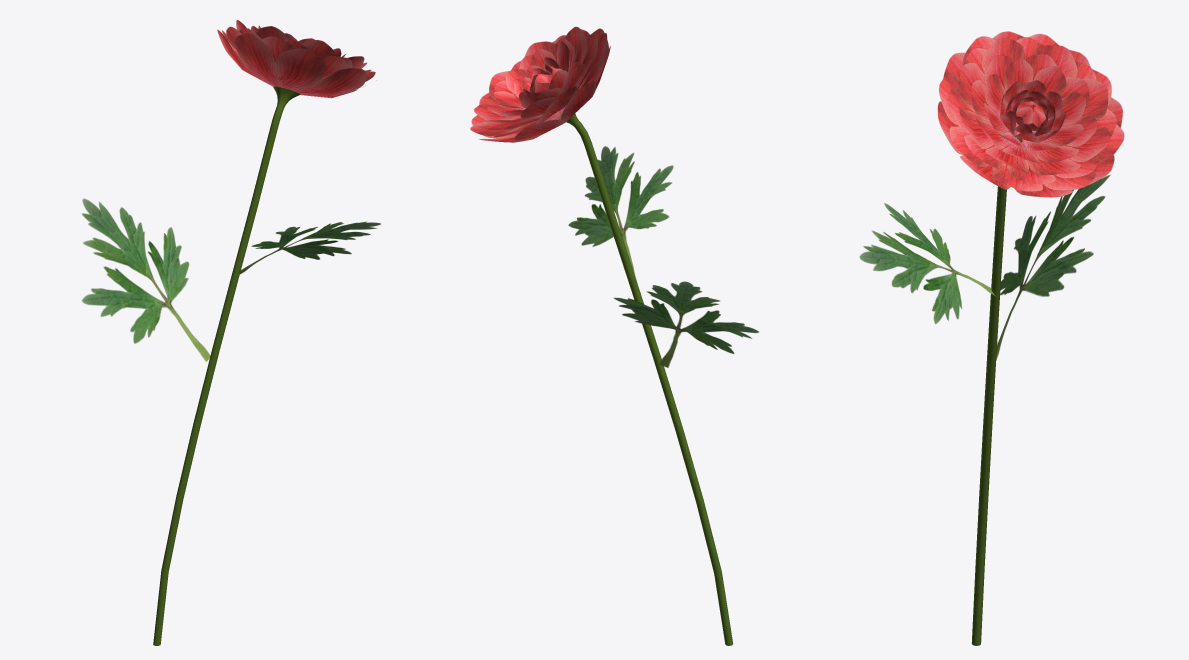
Rendered from flor_vermelha_2.glb.
3 renders of one model, left to right at view 1: azimuth 30°, elevation 25°; view 2: azimuth 150°, elevation 25°; view 3: azimuth 270°, elevation 25°, orthographic. The views are drawn at different scales.
Visible parts, largest first — view 1: Cylinder.006; view 2: Cylinder.006; view 3: Cylinder.006.
Part boxes in pixels (x1,y1,x2,y2): Cylinder.006: [82, 20, 380, 645]; Cylinder.006: [470, 26, 758, 645]; Cylinder.006: [859, 31, 1124, 645].
Size of the model in its own units: 0.2287 by 0.3768 by 0.1773.
2 materials, 2 textured.
